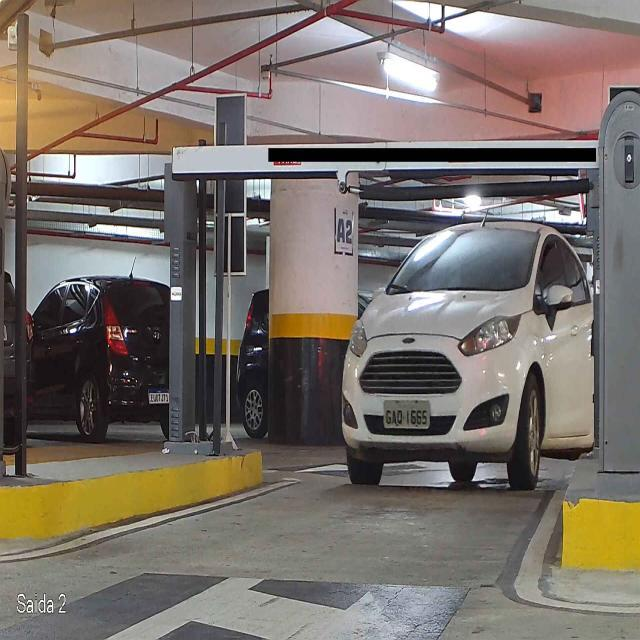old_plate: (382, 399, 432, 430)
